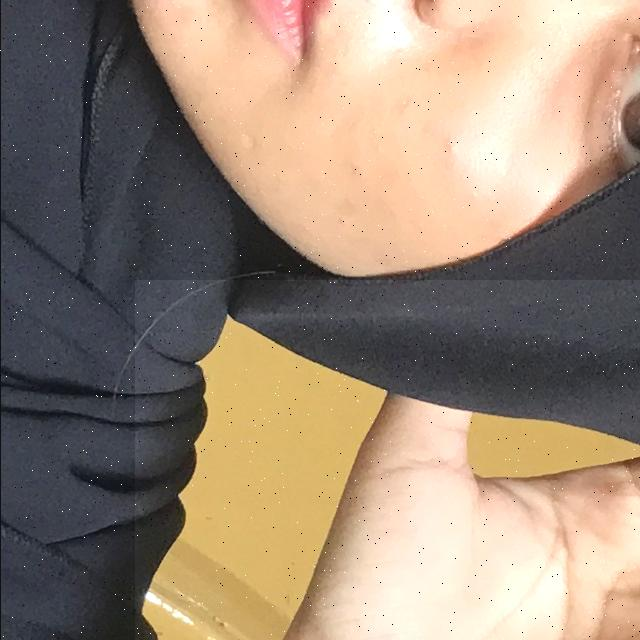mendengar: (134, 280, 640, 640)
